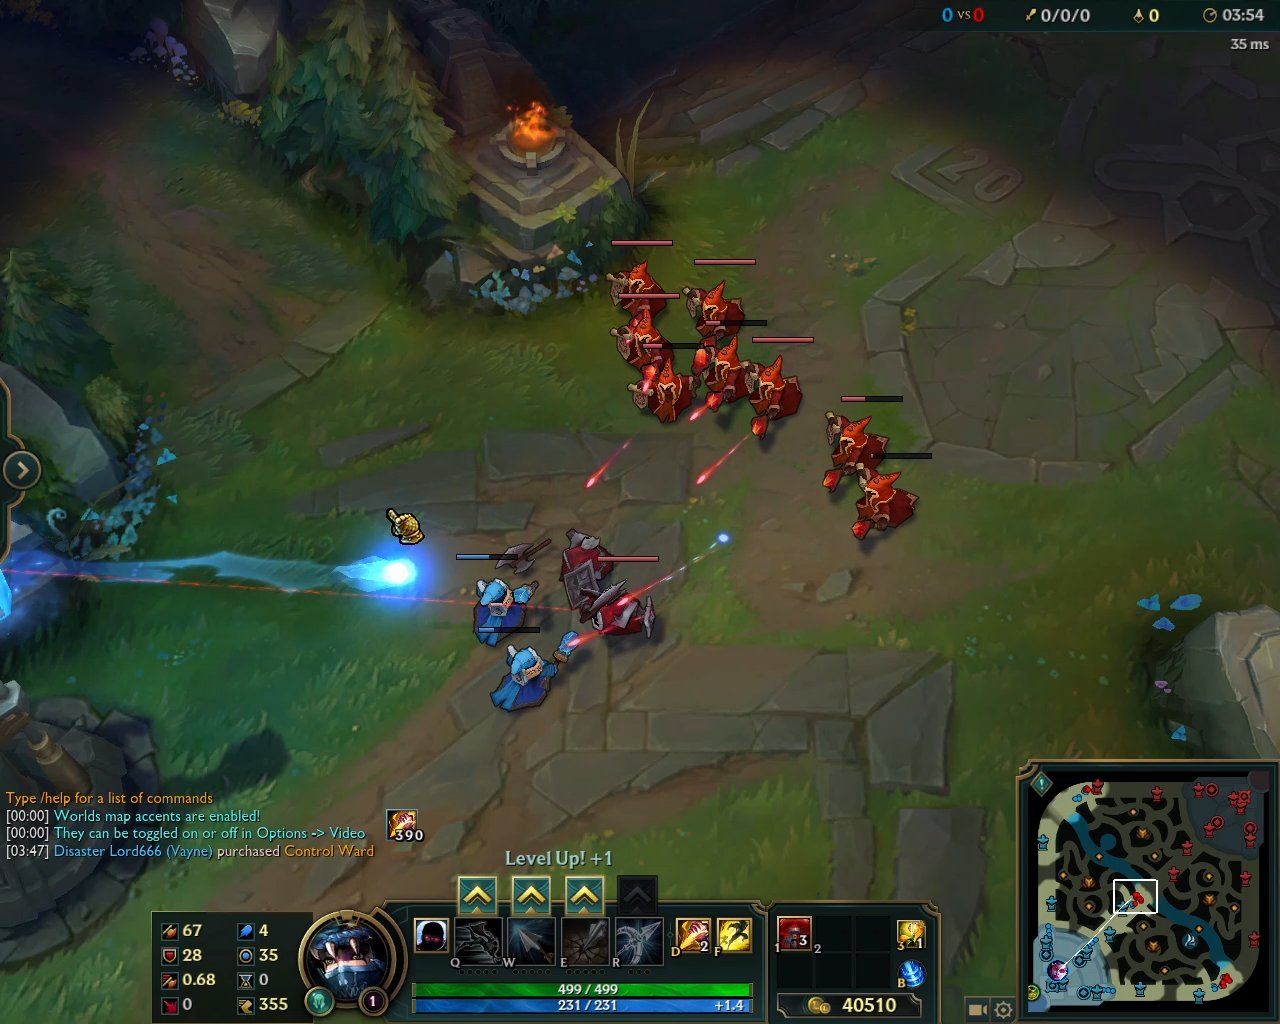EnemyMinion: (741, 336, 814, 445), (846, 452, 932, 544), (823, 396, 903, 493), (578, 556, 661, 644), (690, 319, 766, 412), (624, 344, 703, 429), (678, 258, 755, 345), (608, 290, 679, 374), (604, 239, 673, 321)
